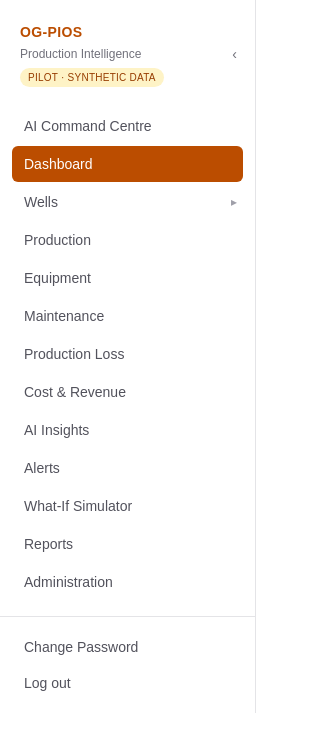
Test: Sidebar › shows an inline error if the wells list fails to load
Click the button named "Expand wells list". click: point(234, 202)
box: [225,188,243,216]
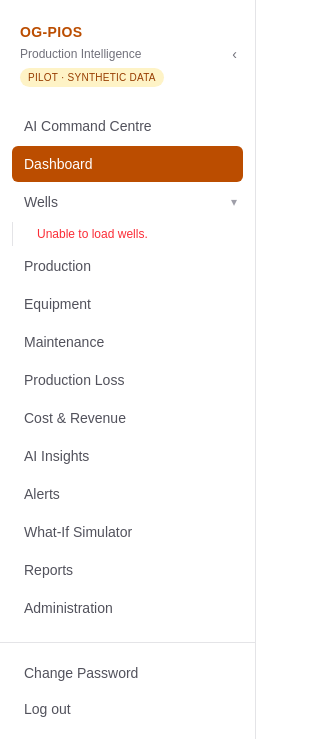
Expected: the list item "Unable to load wells." is shown, [37,227,148,241]
